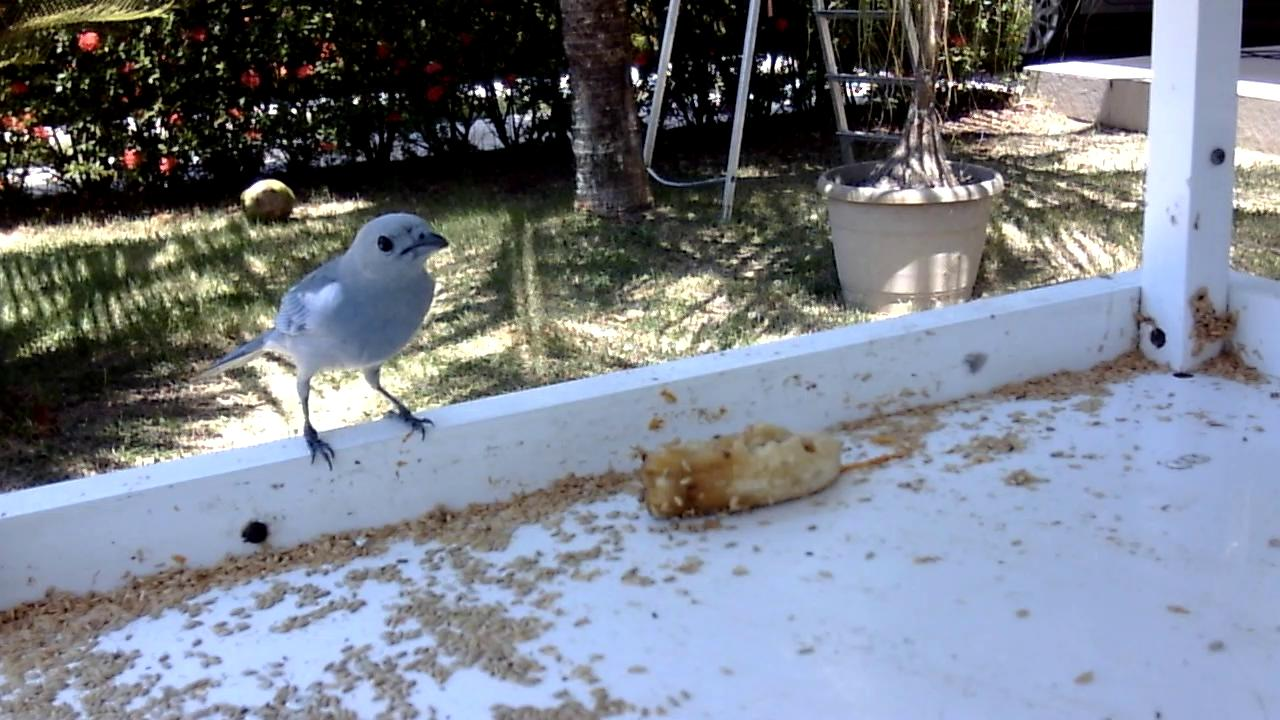sanhaco_da_amazonia: (189, 212, 454, 472)
